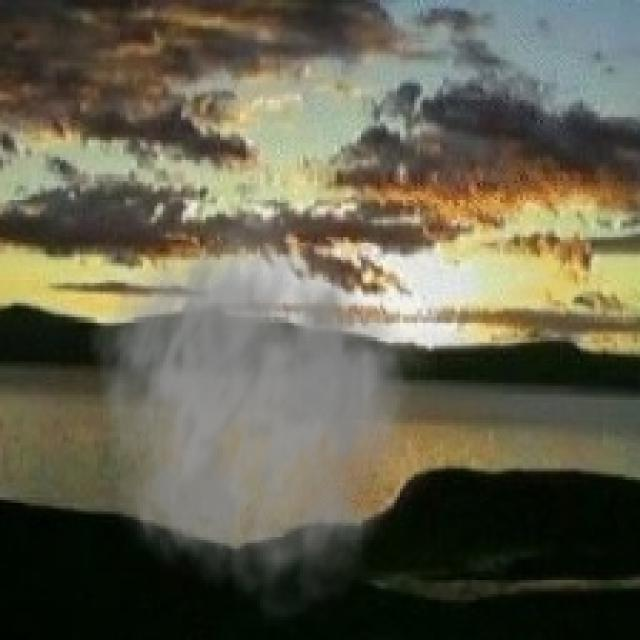Smoke: (89, 214, 438, 626)
